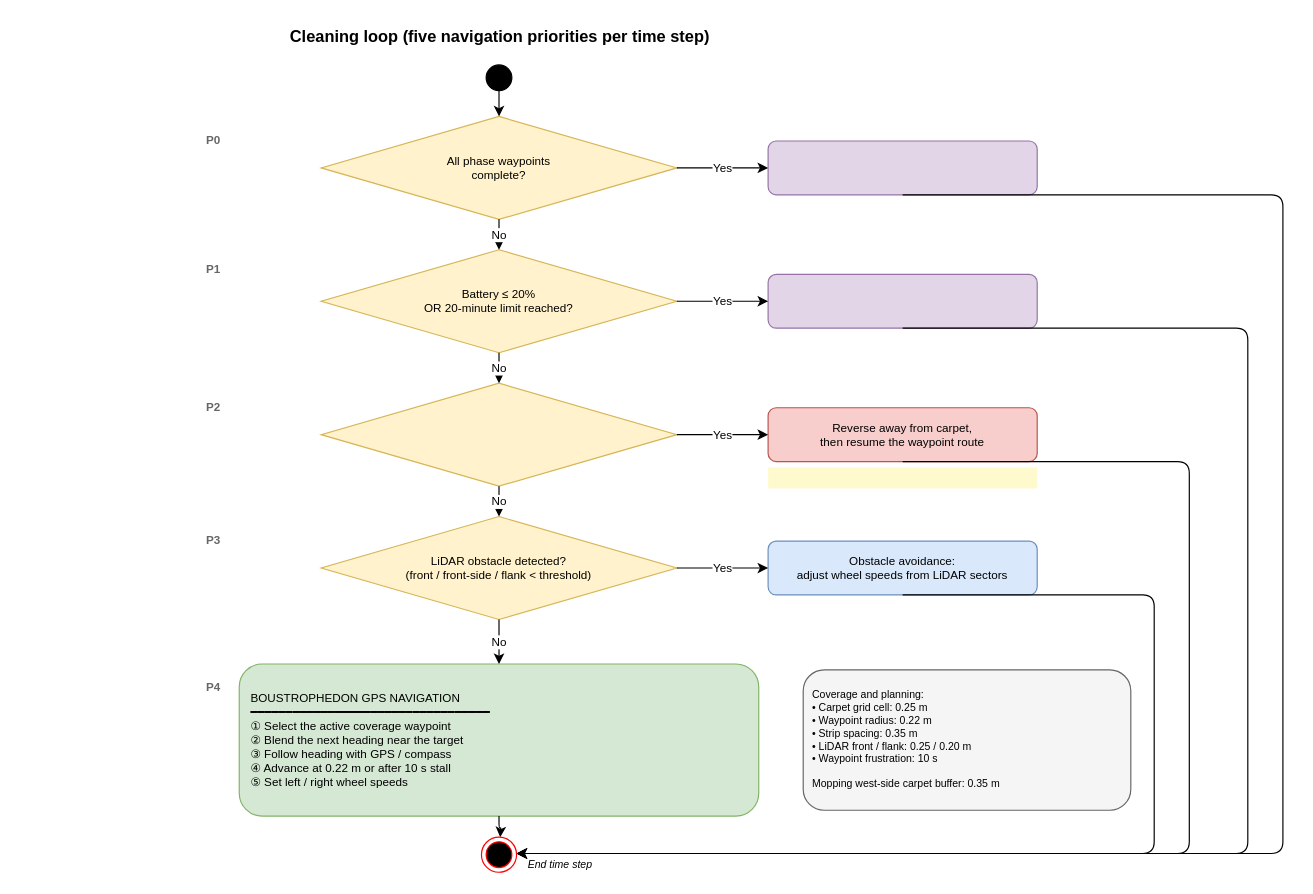
This 1313x894 diagram has some shape labels left out. The shapes that lost their labels are listed below. From the top down, each one's centre as x and y in pixels, then its label:
At [902,167]: "Set state ← RETURNING (phase complete)".
At [902,300]: "Set state ← RETURNING (low battery / time limit)".
At [498,434]: "MOPPING mode AND sensor / height detects rug?".
At [902,477]: "⚠ Active only in MOPPING mode".
